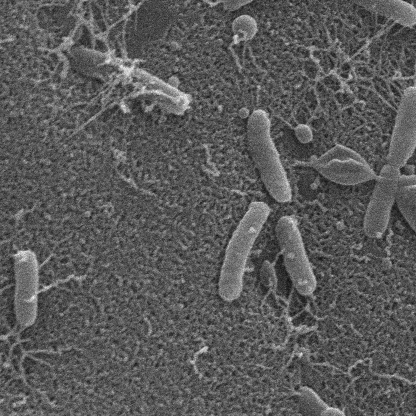cell2cell: (342, 0, 416, 21), (414, 12, 416, 25)
cell2surface: (72, 88, 181, 136), (318, 21, 403, 77), (0, 0, 77, 38), (29, 273, 77, 303), (413, 12, 416, 83), (192, 0, 227, 5)
regular: (72, 51, 190, 114), (217, 203, 269, 303), (247, 113, 294, 205), (276, 219, 315, 297), (362, 167, 397, 240), (387, 90, 416, 169), (299, 388, 372, 416), (14, 251, 35, 329), (225, 0, 296, 10)
spheroplast: (313, 149, 376, 187), (397, 178, 416, 240), (317, 412, 355, 416)
